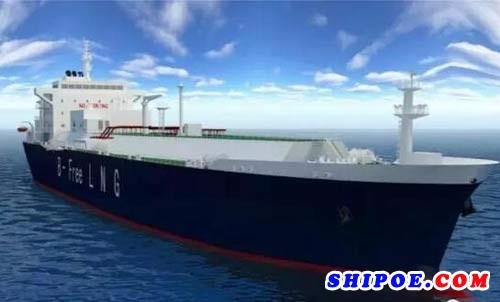Cargoship: (8, 39, 500, 284)
